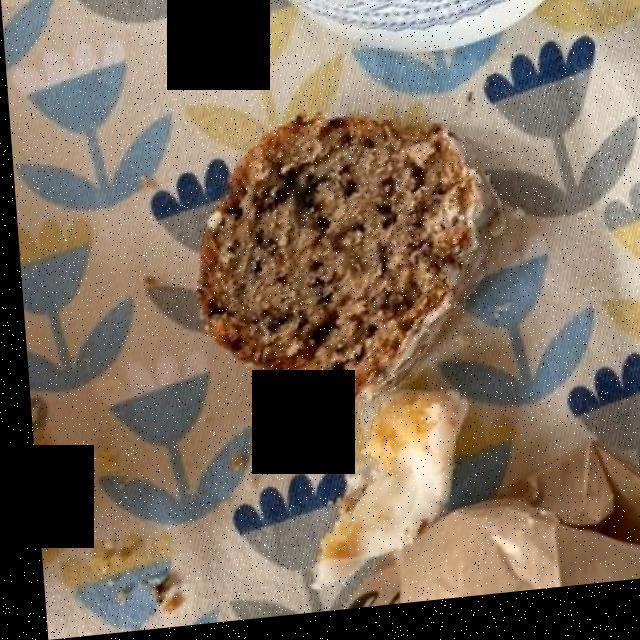cake: (198, 137, 479, 405)
